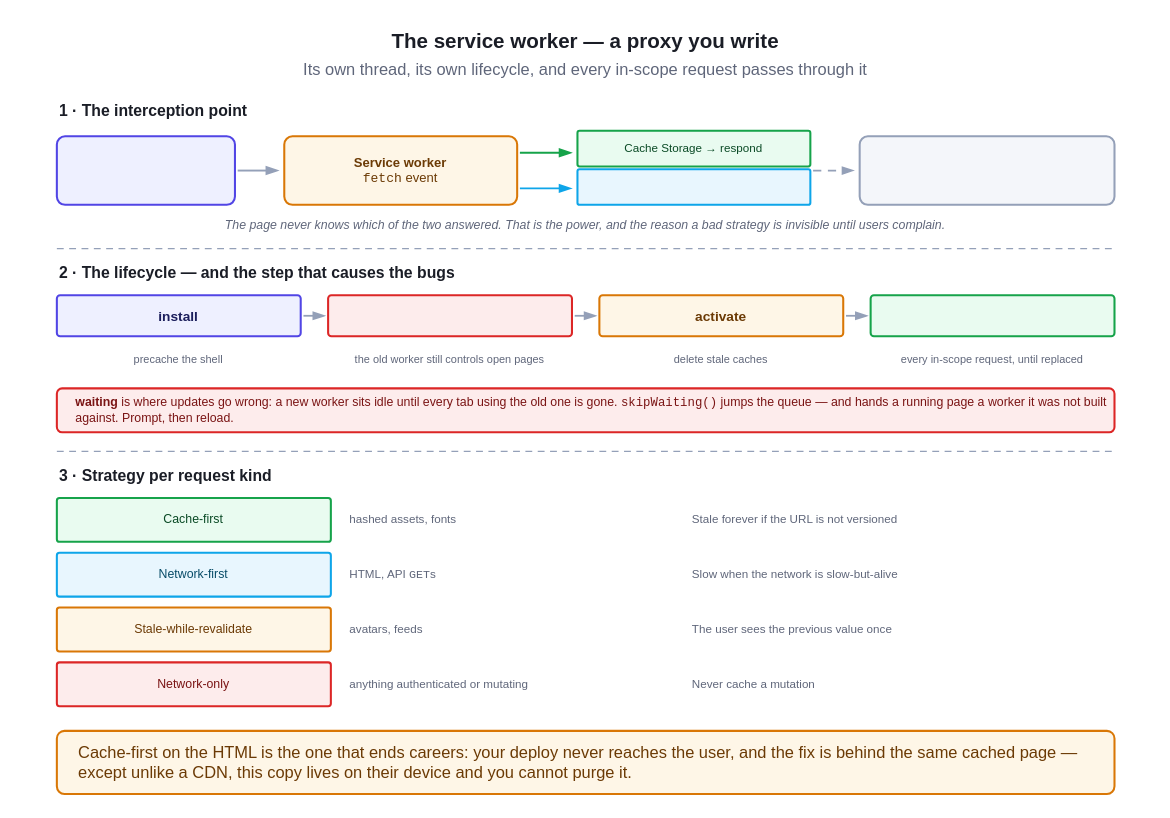
Image size: 1170x818. Some labels were removed from this diagram. Here are the shapes that lost their labels. From the top down, the box of each, then its label:
(55, 135, 235, 205): Page fetch() / <img>
(576, 168, 811, 205): Network → respond, store
(858, 135, 1115, 205): HTTP cache, then the network
(326, 294, 572, 337): waiting
(869, 294, 1115, 337): fetch
